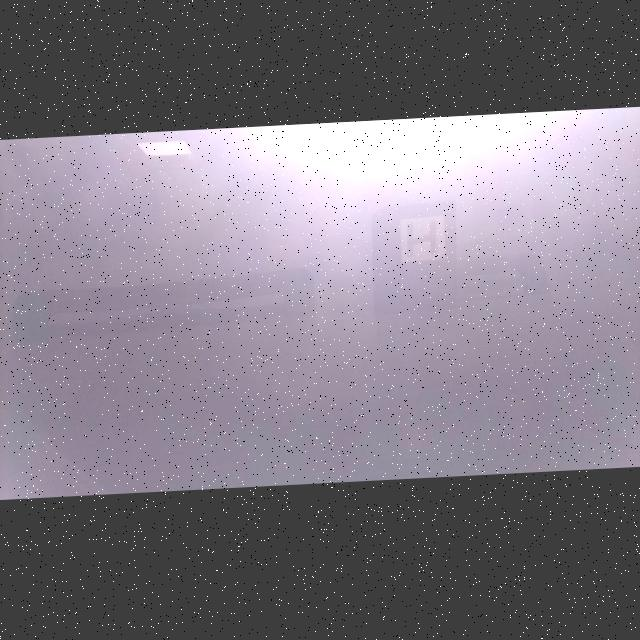H: (408, 225, 437, 262)
